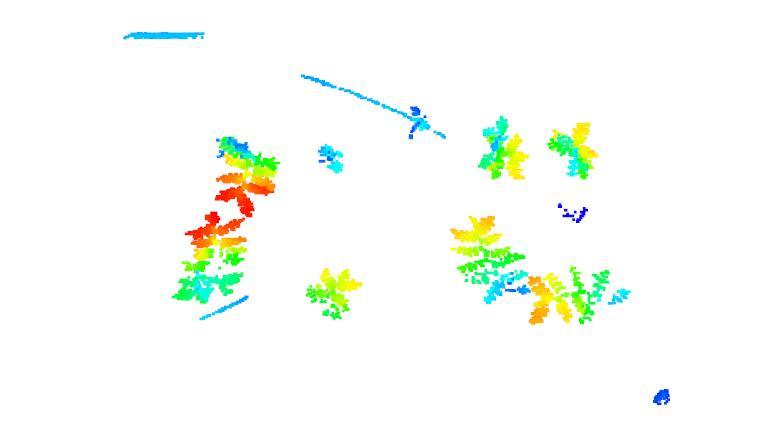chickpea: (450, 213, 532, 305), (173, 212, 247, 305), (527, 265, 632, 327), (209, 133, 276, 217), (474, 116, 530, 181), (543, 120, 601, 181), (306, 266, 363, 324), (315, 138, 351, 175)
